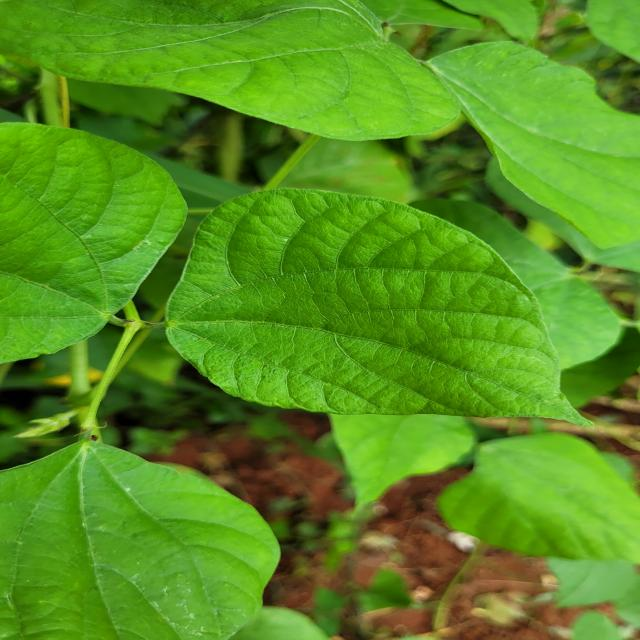Dolicos bean_healthy: (164, 189, 610, 433), (3, 0, 463, 146), (0, 440, 278, 640), (429, 37, 640, 258), (0, 112, 181, 366), (418, 420, 640, 554)
